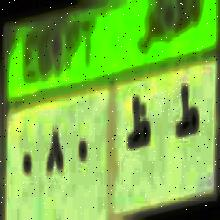0: (76, 132, 90, 174), (22, 148, 34, 182)
8: (46, 128, 64, 178)
Taa: (173, 82, 201, 150)
Thaa: (126, 91, 154, 157)
